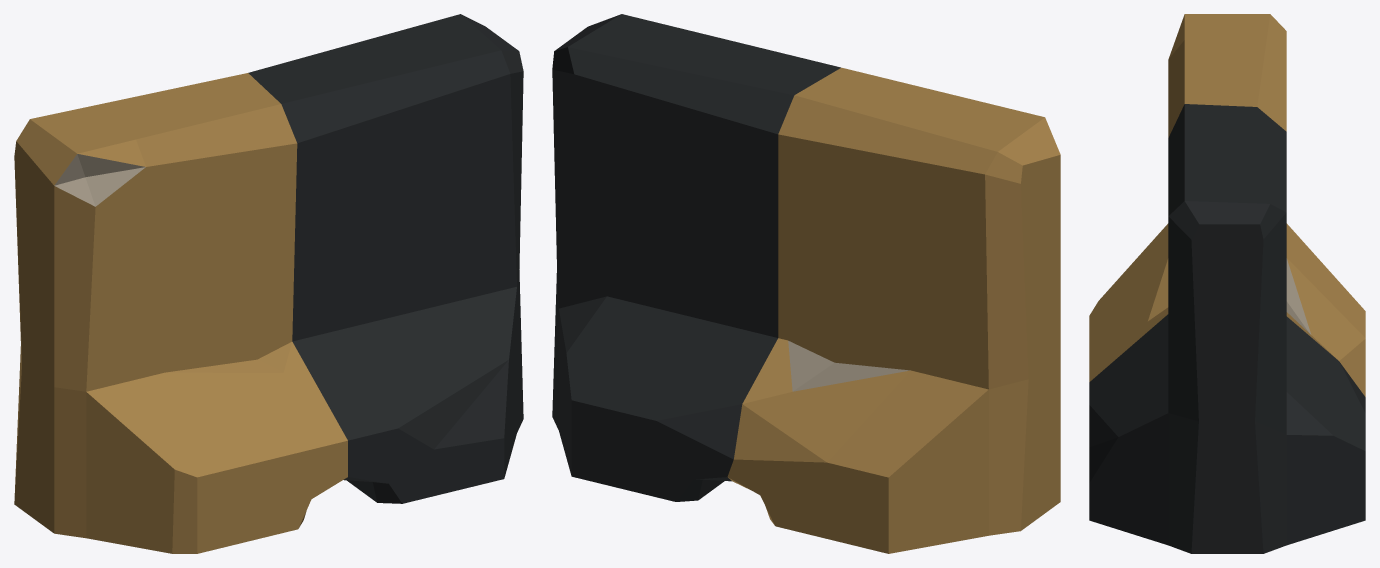
The model's file is SM_Prop_Barrier_07.glb.
The picture shows the model from 3 angles, left to right: view 1: azimuth 30°, elevation 25°; view 2: azimuth 150°, elevation 25°; view 3: azimuth 270°, elevation 25°; orthographic projection. The views are drawn at different scales.
Parts seen in each view (by area): view 1: SM_Prop_Barrier_07; view 2: SM_Prop_Barrier_07; view 3: SM_Prop_Barrier_07.
Boxes of the visible parts, <box> form: SM_Prop_Barrier_07: <box>14,14,523,553</box>; SM_Prop_Barrier_07: <box>552,14,1060,553</box>; SM_Prop_Barrier_07: <box>1089,14,1365,553</box>.
Size of the model in its own units: 1.24 by 0.9544 by 0.7003.
1 material, 1 textured.
